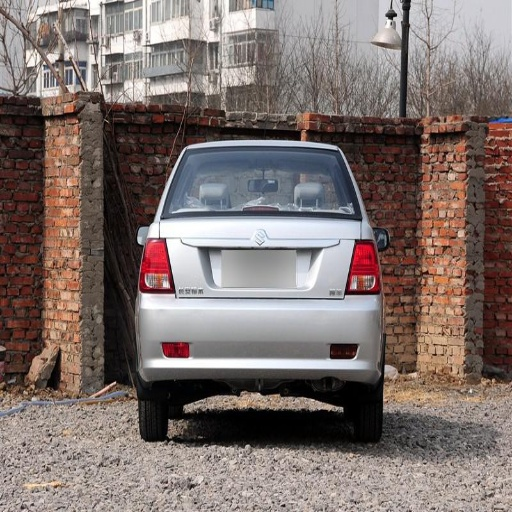back_bumper: (133, 291, 380, 381)
